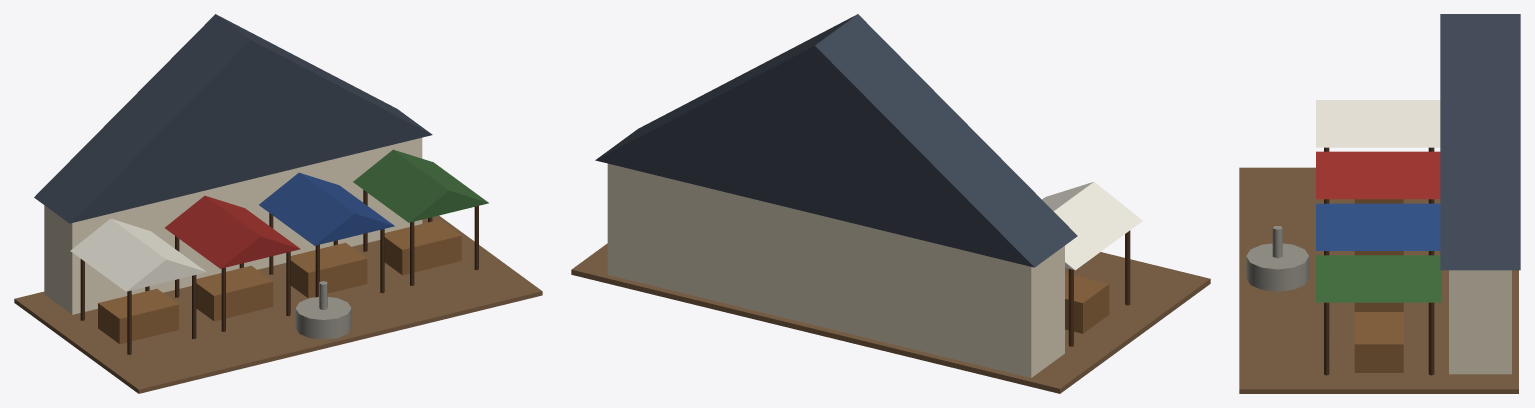
The model's file is bld_special_market_a03.glb.
3 renders of one model, left to right at view 1: azimuth 30°, elevation 25°; view 2: azimuth 150°, elevation 25°; view 3: azimuth 270°, elevation 25°, orthographic. The views are drawn at different scales.
Parts seen in each view (by area): view 1: body; view 2: body; view 3: body.
Boxes of the visible parts, left/top/right/bottom form: body: left=14, top=14, right=542, bottom=393; body: left=571, top=14, right=1210, bottom=393; body: left=1239, top=14, right=1520, bottom=393.
Size of what is drawn, in the model's own units: 15 by 8.49 by 8.05.
